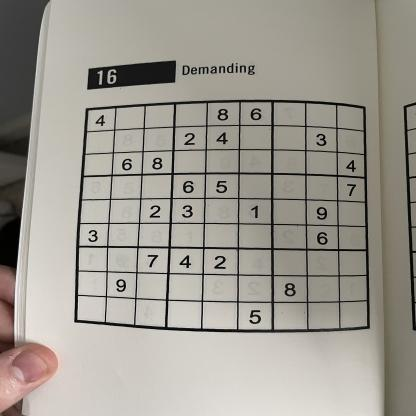sudoku: (72, 97, 375, 335)
